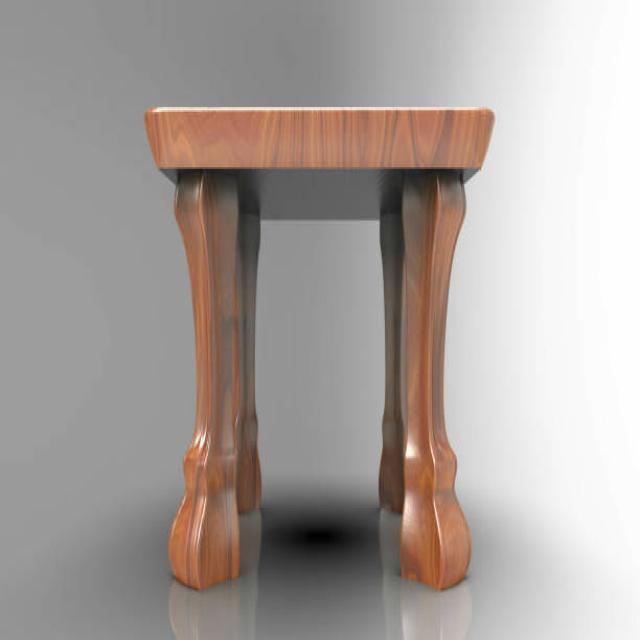table: (143, 104, 494, 594)
